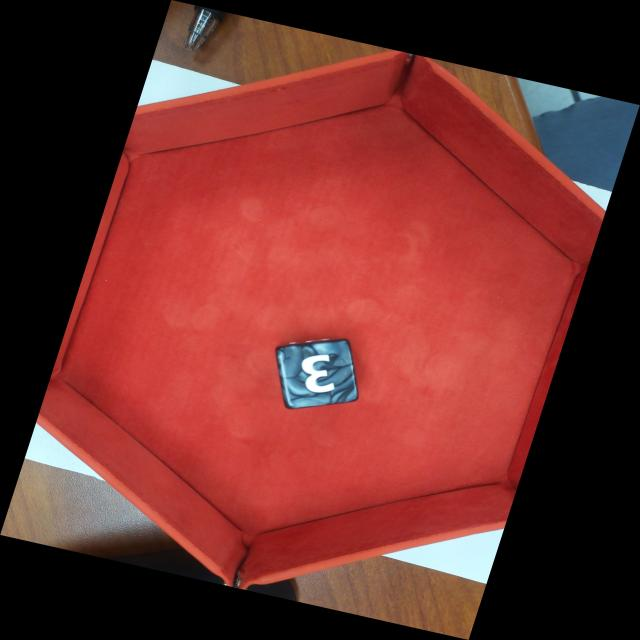dice: (281, 339, 361, 405)
